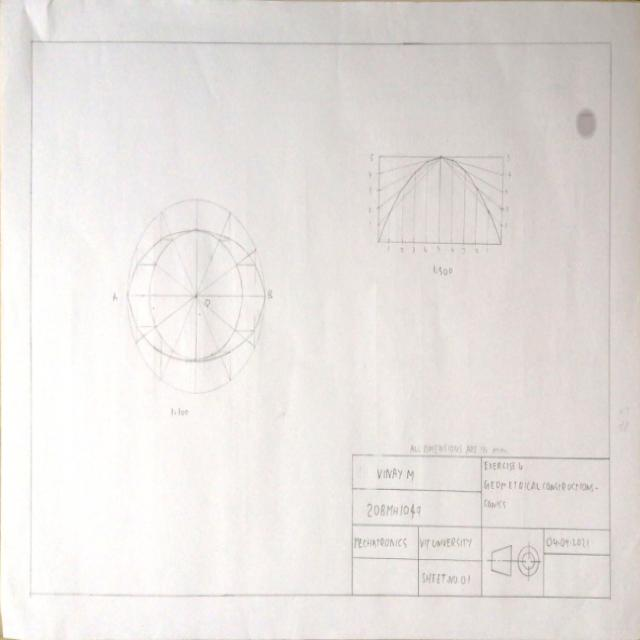Drawings: (111, 190, 276, 404), (366, 145, 515, 259)
